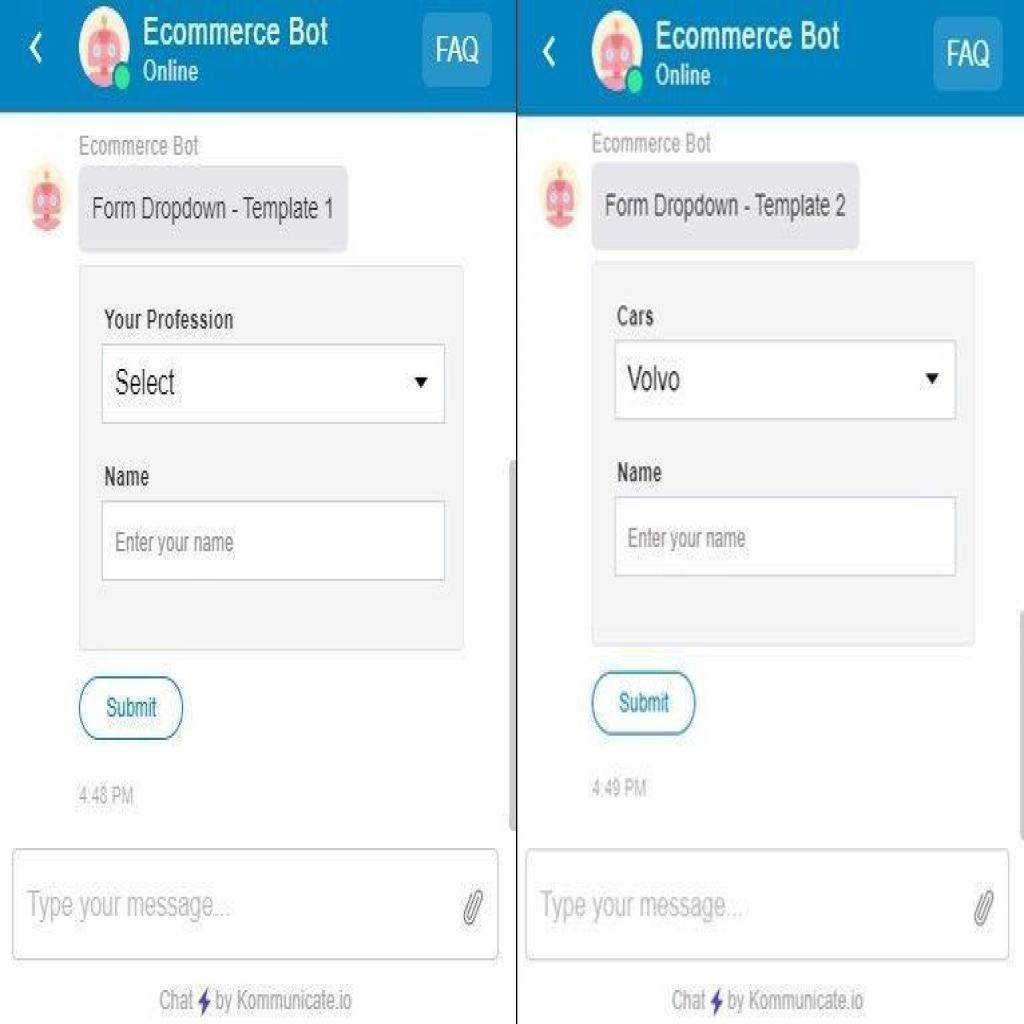button: (591, 668, 695, 736), (79, 674, 184, 740)
dropdown: (612, 337, 958, 424), (102, 343, 445, 424)
icon: (460, 876, 486, 930), (970, 874, 994, 928)
input: (527, 848, 1009, 963), (10, 850, 498, 960), (614, 496, 960, 579), (103, 498, 446, 579)
label: (104, 301, 240, 331), (102, 462, 150, 492), (615, 301, 658, 331), (615, 462, 662, 481)
